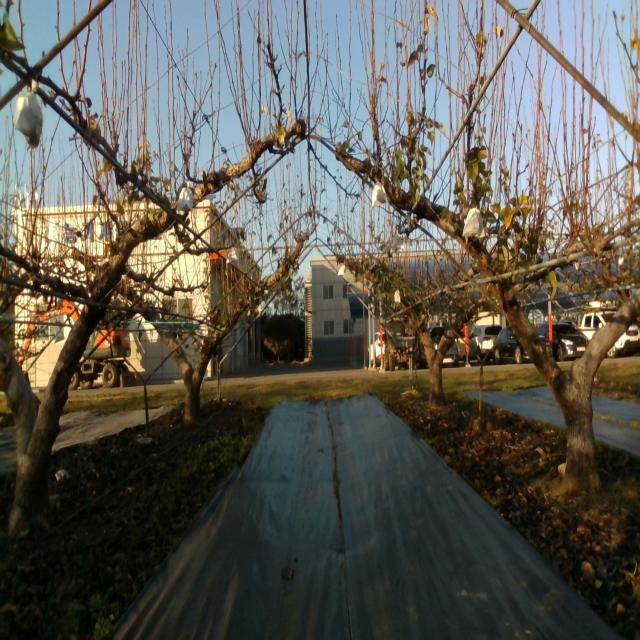pearbags: (14, 76, 44, 150), (462, 207, 485, 238), (176, 181, 194, 216), (371, 180, 388, 208), (226, 247, 240, 270), (390, 232, 404, 253)
